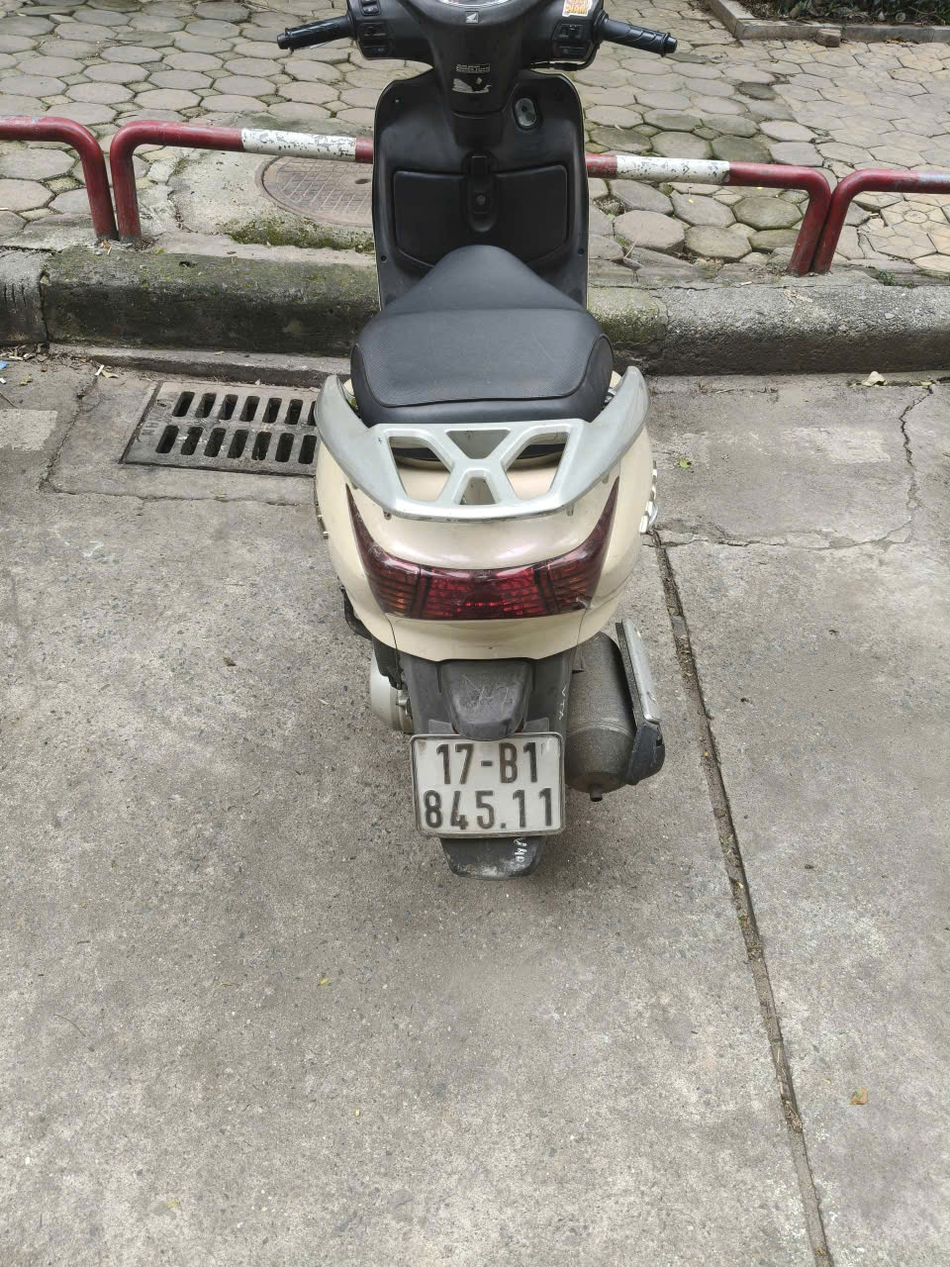plate: (265, 100, 378, 145)
